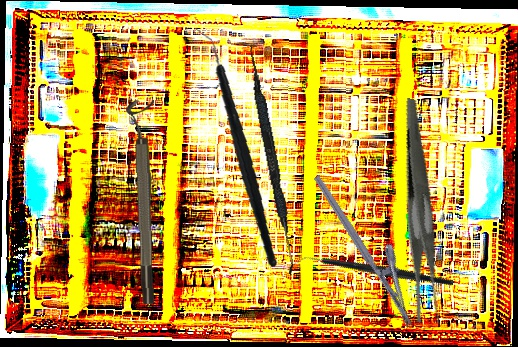Chopper: (174, 26, 298, 268), (293, 207, 455, 338)
Dressing Forceps: (355, 97, 490, 328)
Fixation Ring: (126, 99, 158, 305)
Needle Holder: (312, 161, 434, 329)
Spatula Surgical: (241, 45, 303, 276)
